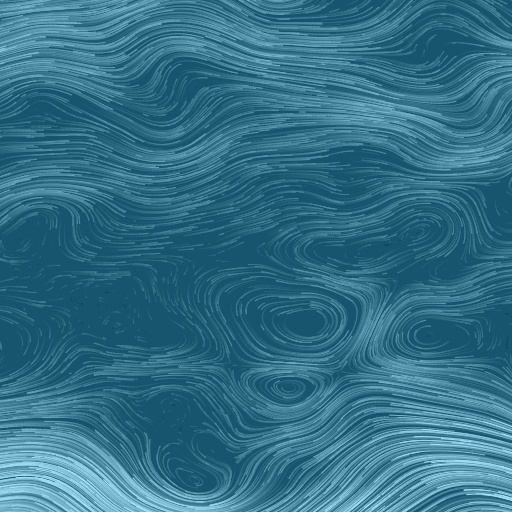eddy: (297, 198, 461, 275), (234, 291, 347, 361), (394, 313, 487, 358), (242, 367, 326, 411), (158, 450, 225, 500)
